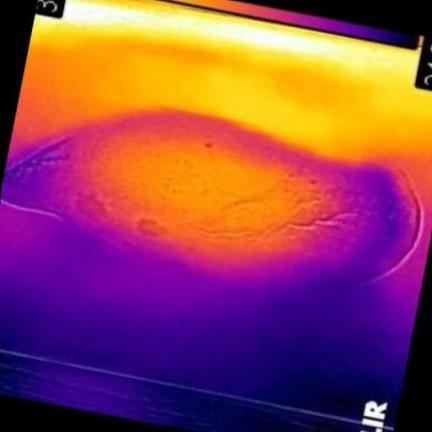mango: (1, 114, 420, 285)
